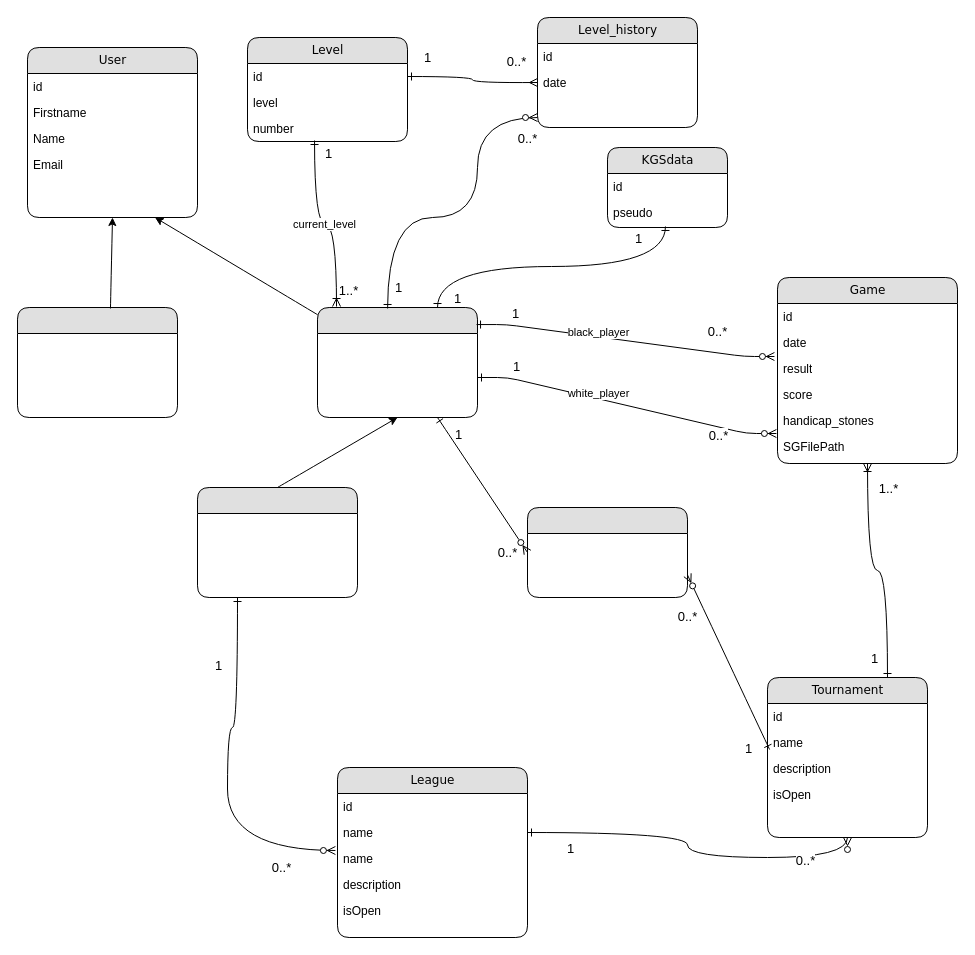
Image size: 975x955. Some labels were removed from this diagram. The centre of each missing label's shape, as x and y in pixels:
"Administrator" goes at point (97, 362).
"LeagueManager" goes at point (277, 542).
"Player" goes at point (397, 362).
"Registration" goes at point (607, 552).
